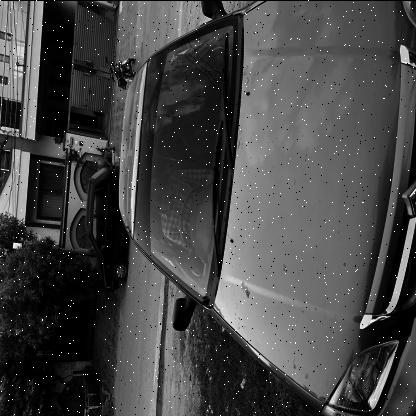no_seatbelt: (150, 177, 196, 235)
